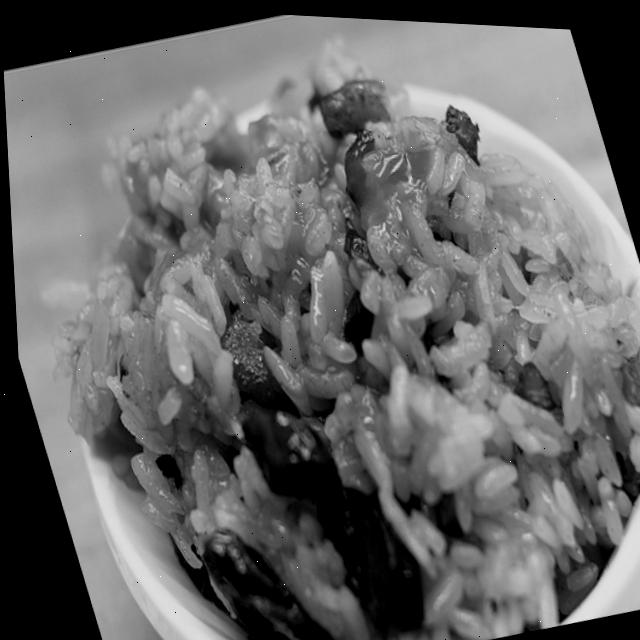米饭主食: (27, 33, 640, 640)
